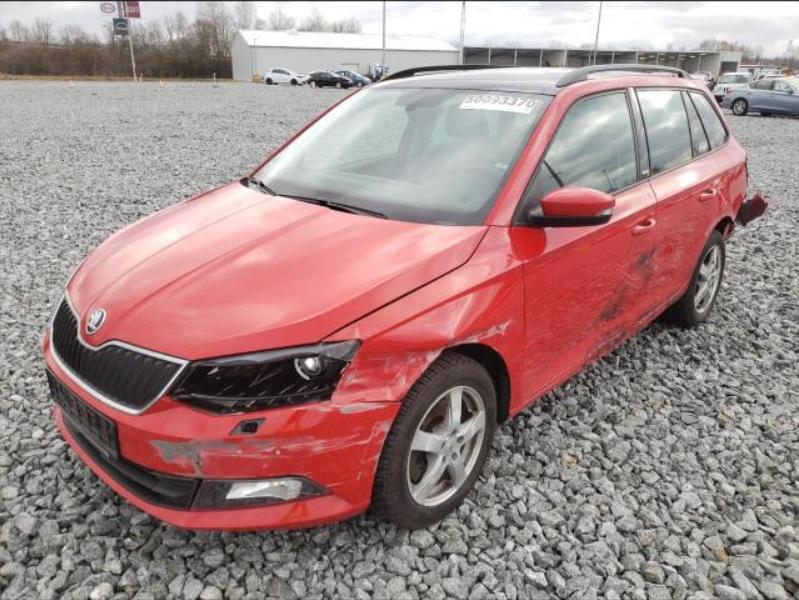Back-bumper: (734, 190, 770, 229)
Back-door: (635, 88, 725, 309)
Back-wheel: (661, 230, 726, 329)
Back-window: (637, 90, 692, 175), (690, 92, 728, 150), (683, 92, 710, 156)
Fender: (327, 227, 525, 407)
Front-bumper: (42, 330, 402, 531)
Front-door: (510, 89, 658, 397)
Front-wheel: (371, 352, 498, 534)
Front-window: (546, 93, 638, 194)
Grille: (48, 299, 181, 415)
Headlight: (169, 340, 357, 411)
Hood: (66, 180, 489, 363)
License-plate: (47, 377, 118, 460)
Mirror: (538, 185, 611, 223)
Quarter-panel: (713, 138, 749, 237)
Rocker-panel: (510, 278, 690, 418)
Roof: (366, 62, 703, 95)
Windshield: (249, 86, 554, 227)
